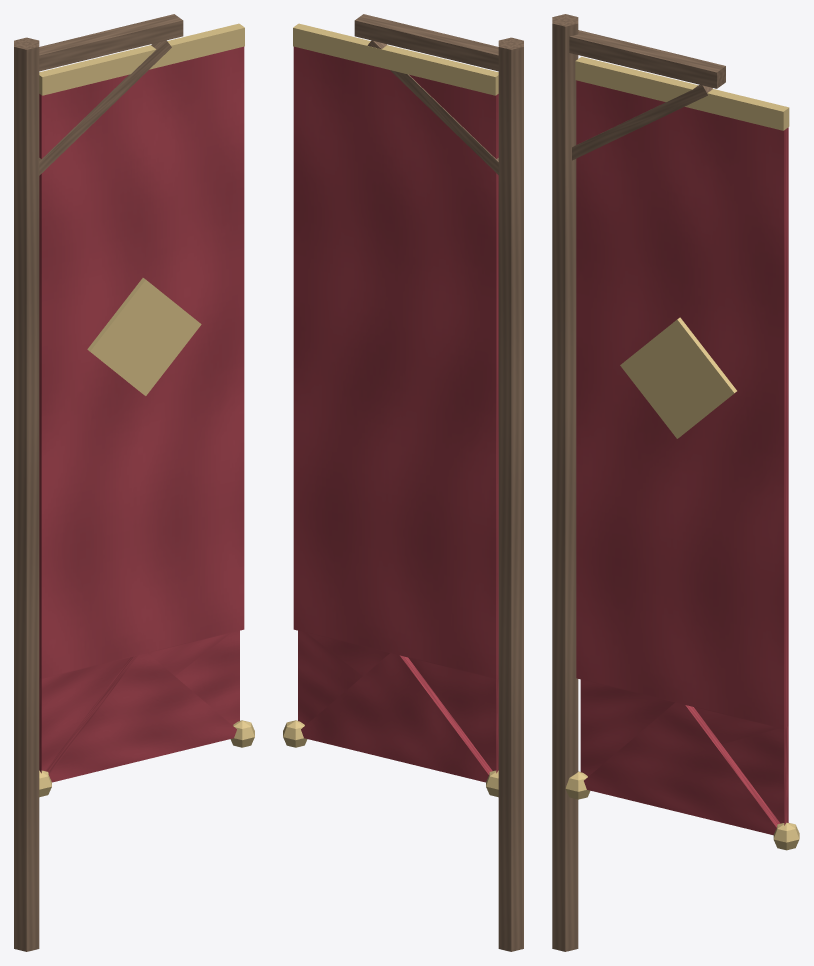
The model's file is vampire-crypt-and-gothic-cathedral-banner-36d08b96__23010.glb.
3 views of the same model, side by side, from view 1: azimuth 30°, elevation 25°; view 2: azimuth 150°, elevation 25°; view 3: azimuth 330°, elevation 25° (orthographic). The views are drawn at different scales.
Parts seen in each view (by area): view 1: banner; view 2: banner; view 3: banner.
Boxes of the visible parts, box(x1,y1,x2,y2) form: banner: box(14, 14, 254, 951); banner: box(283, 14, 523, 951); banner: box(552, 14, 799, 951).
Size of the model in its own units: 0.9499 by 3.4 by 0.0867.
3 materials, 2 textured.
